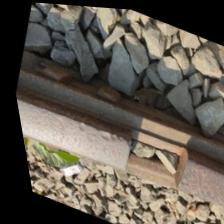person: (76, 94, 219, 224)
